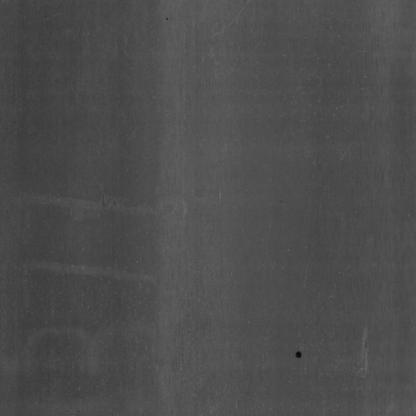inclusion: (293, 345, 305, 364)
